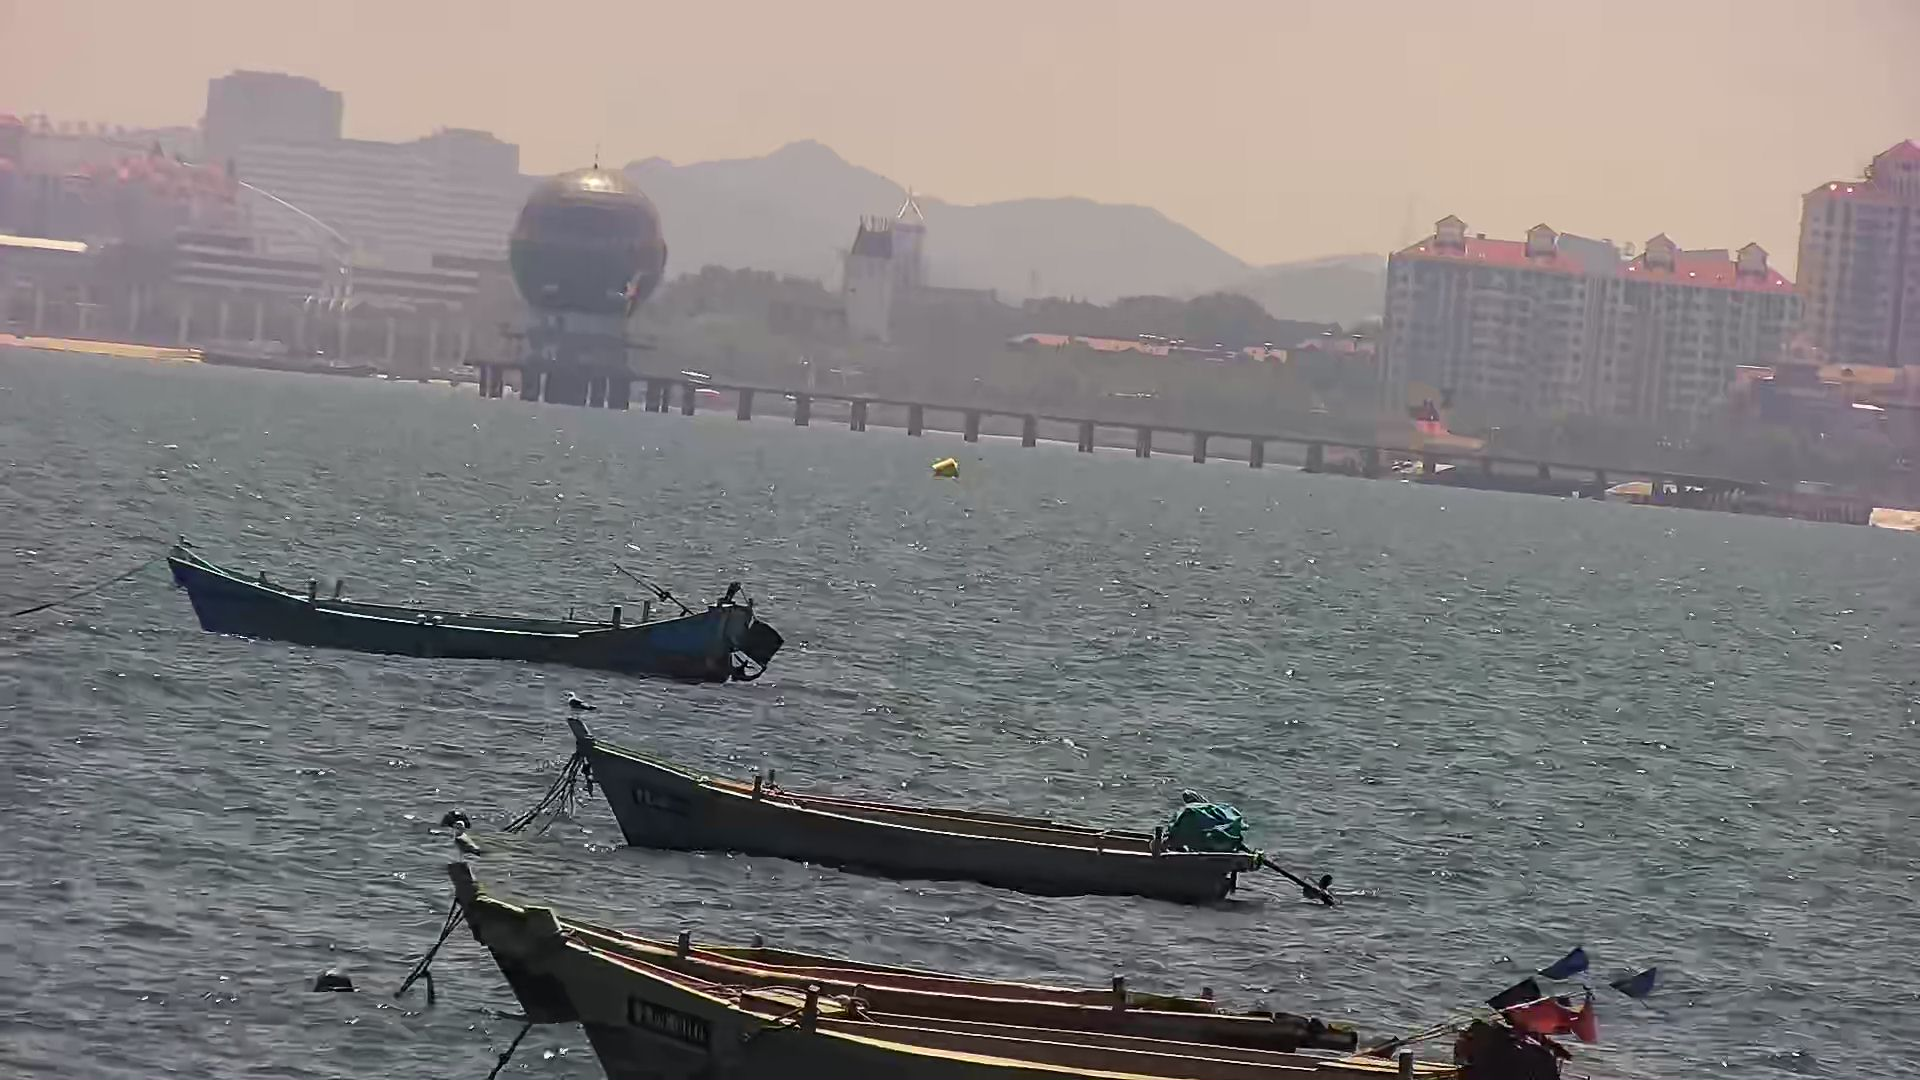ball: (301, 957, 363, 1000), (433, 791, 485, 833)
boat: (516, 687, 1377, 919), (524, 913, 1582, 1080), (430, 862, 1373, 1035), (160, 506, 829, 684)
bridge: (454, 353, 1920, 551)
rubbish: (914, 450, 986, 483)
